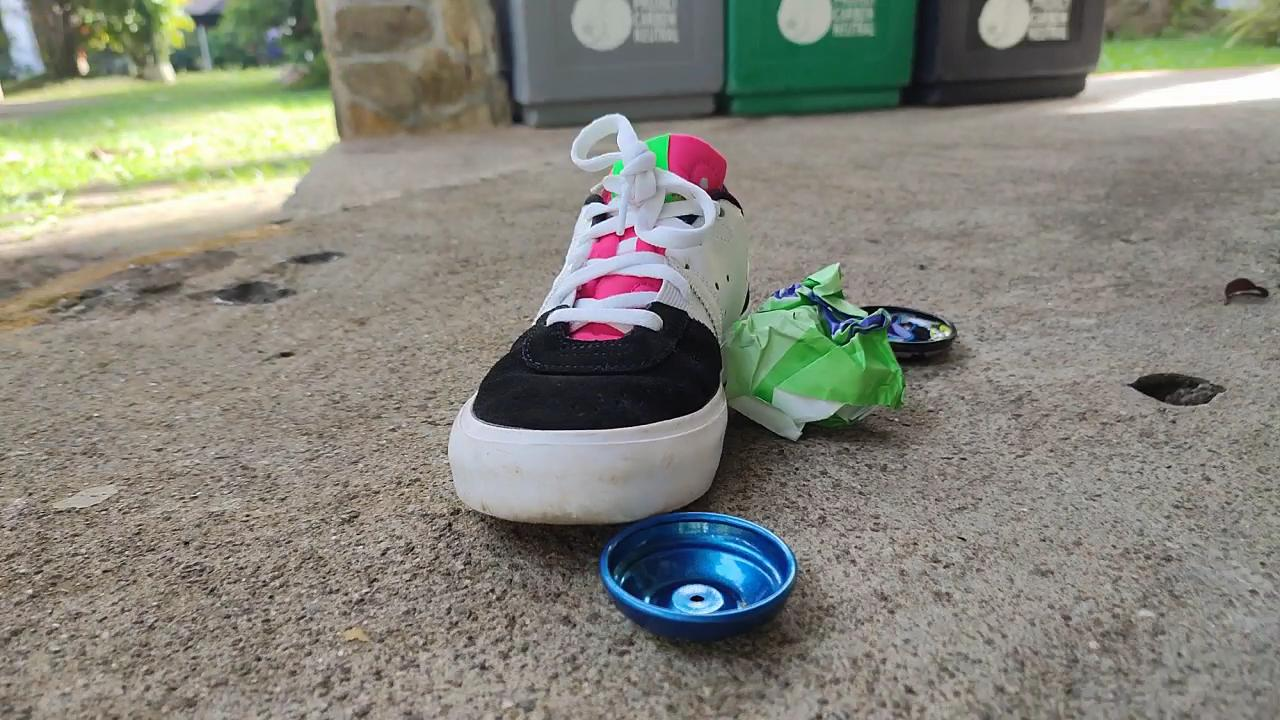Paper: (713, 251, 914, 449)
